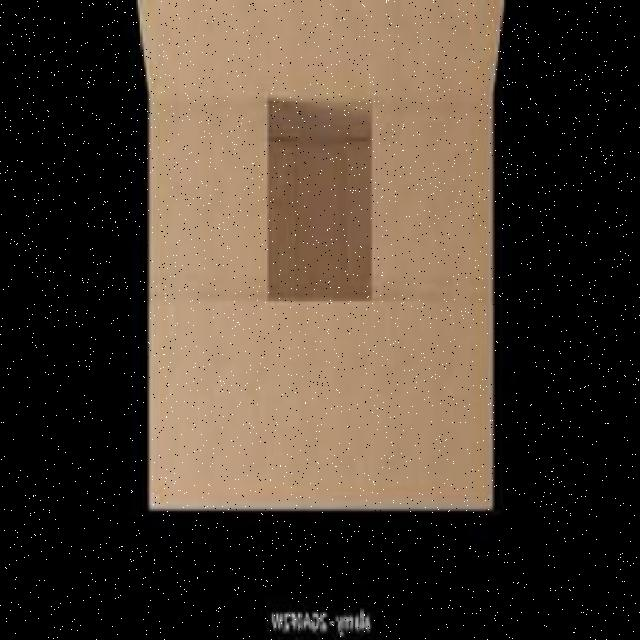defect: (136, 4, 510, 516)
